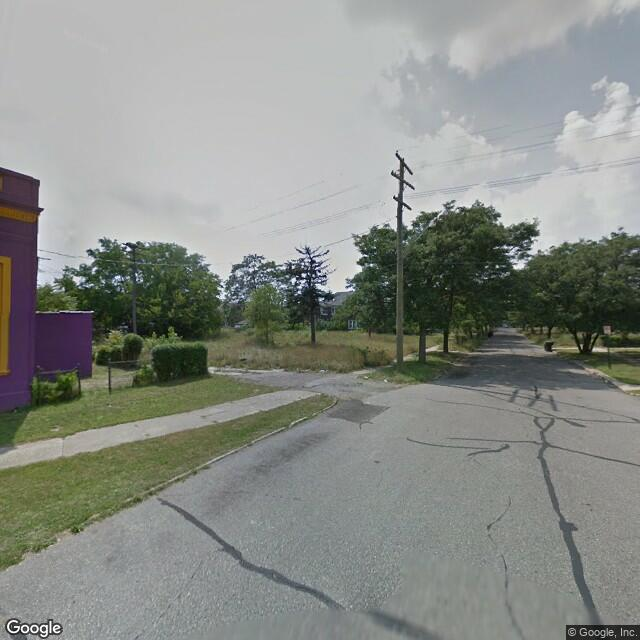litter: (48, 426, 59, 433), (318, 368, 330, 374), (361, 374, 369, 379), (381, 379, 389, 383)
